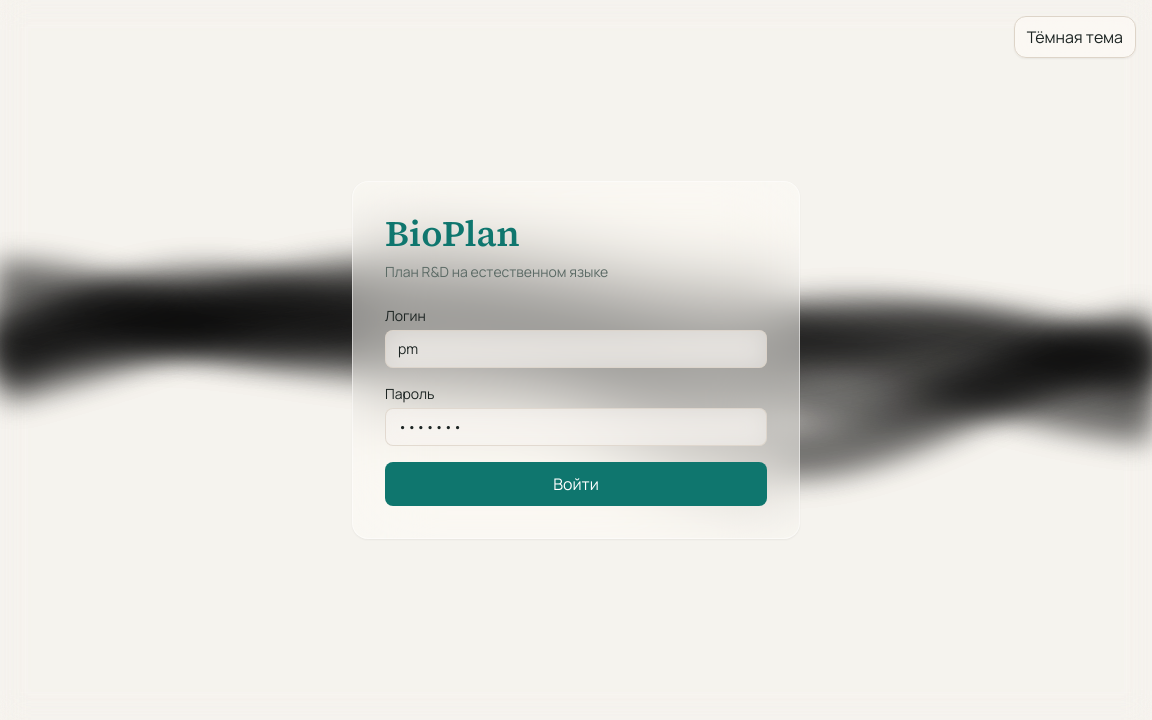
Test: LoginPage › shows error when login fails
Click the button "Войти": x=576, y=484 [385,462,767,506]
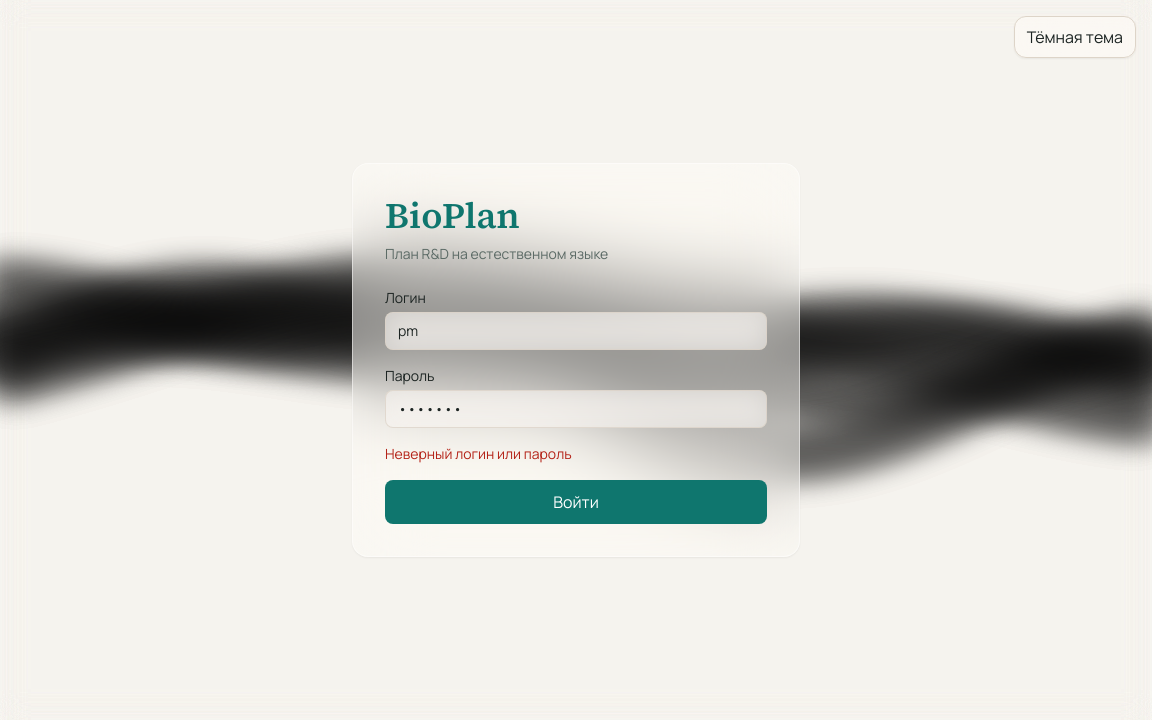
Result: the text "Неверный логин или пароль" is shown at [385,444,572,463]
